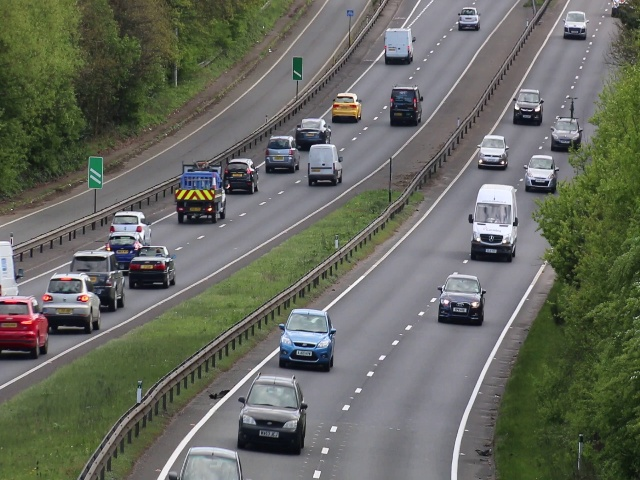car: (236, 374, 307, 454), (467, 182, 519, 262), (41, 273, 102, 331), (278, 309, 337, 366), (172, 167, 228, 224), (1, 296, 47, 359), (438, 273, 486, 325), (131, 244, 174, 286), (387, 84, 423, 127), (309, 143, 342, 185), (264, 134, 301, 171), (523, 154, 559, 192), (512, 83, 543, 125), (72, 251, 118, 279), (383, 25, 415, 65), (476, 132, 508, 171), (294, 117, 332, 146), (227, 158, 259, 192), (331, 89, 360, 123), (109, 209, 150, 232), (552, 117, 580, 150), (457, 5, 482, 31), (105, 236, 140, 252)
